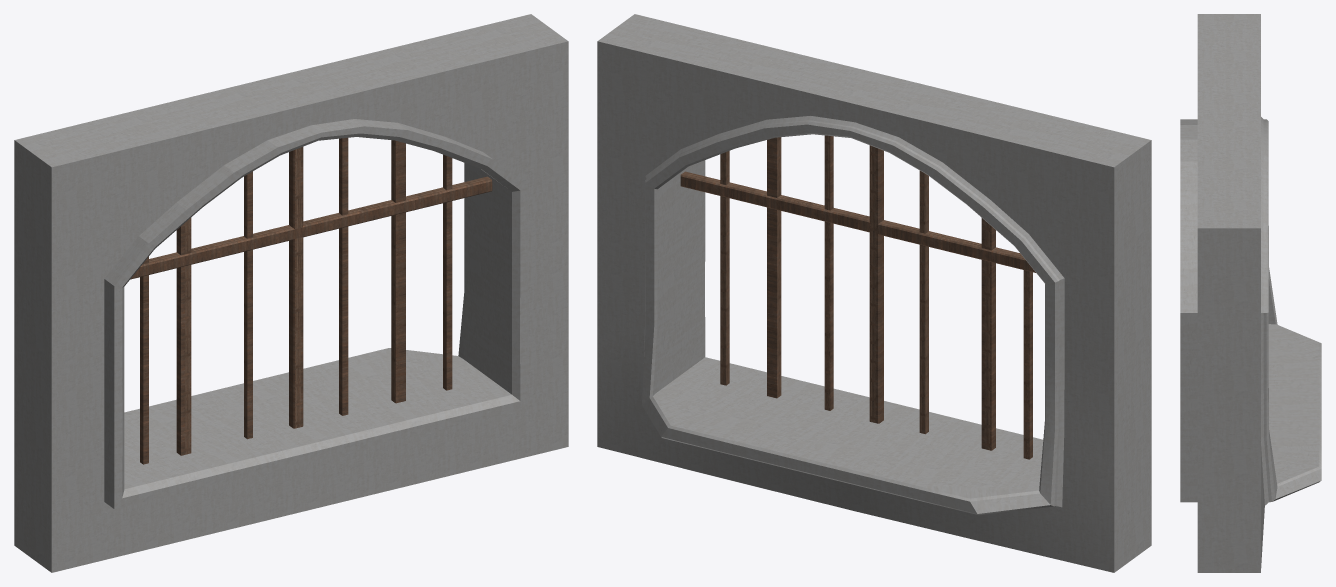
File: NewWindow.fbx
3 renders of one model, left to right at view 1: azimuth 30°, elevation 25°; view 2: azimuth 150°, elevation 25°; view 3: azimuth 270°, elevation 25°, orthographic. The views are drawn at different scales.
Parts seen in each view (by area): view 1: pCube8; view 2: pCube8; view 3: pCube8.
Part boxes in pixels (<box>): pCube8: <box>14,14,568,572</box>; pCube8: <box>597,14,1151,572</box>; pCube8: <box>1180,14,1321,572</box>.
Size of the model in its own units: 800 by 600 by 223.
1 material, 1 textured.
